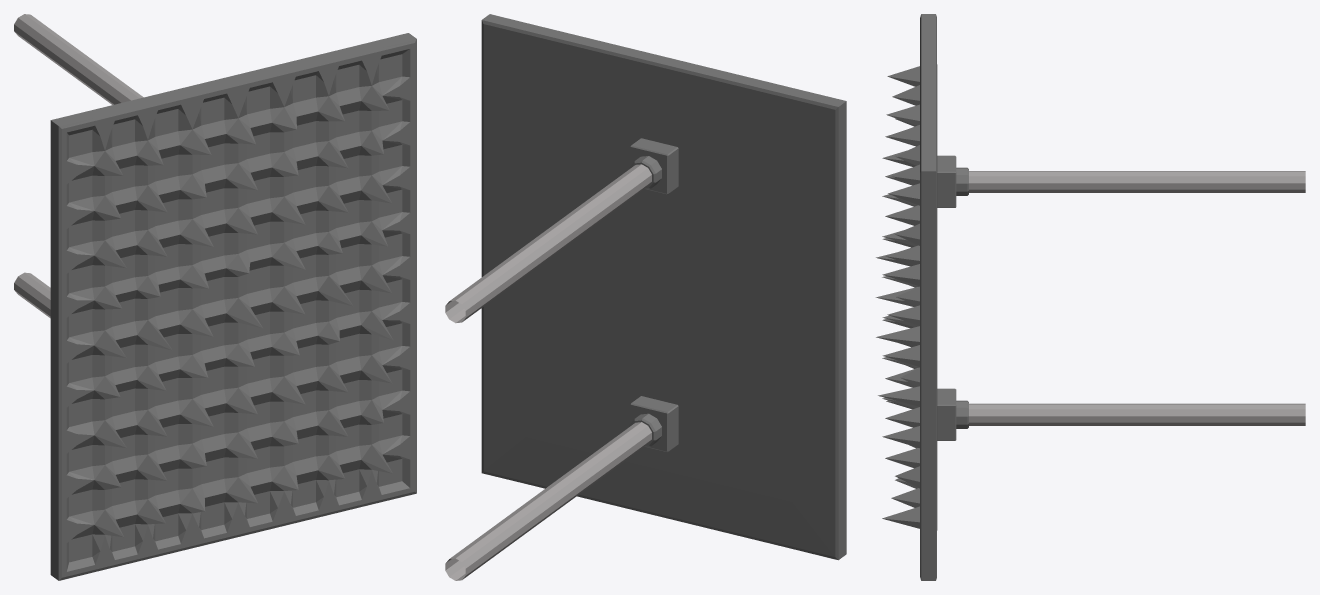
Rendered from LGEStoneSpikeTrapWall.fbx.
3 renders of one model, left to right at view 1: azimuth 30°, elevation 25°; view 2: azimuth 150°, elevation 25°; view 3: azimuth 270°, elevation 25°, orthographic. The views are drawn at different scales.
Visible parts, largest first — view 1: LGEStoneSpikeTrapWall; view 2: LGEStoneSpikeTrapWall; view 3: LGEStoneSpikeTrapWall.
Part boxes in pixels (box(x1,y1,x2,y2)): LGEStoneSpikeTrapWall: box(14, 14, 416, 580); LGEStoneSpikeTrapWall: box(445, 14, 846, 580); LGEStoneSpikeTrapWall: box(875, 14, 1305, 580).
Bounding box in the file's own units: 232 × 281 × 268.
